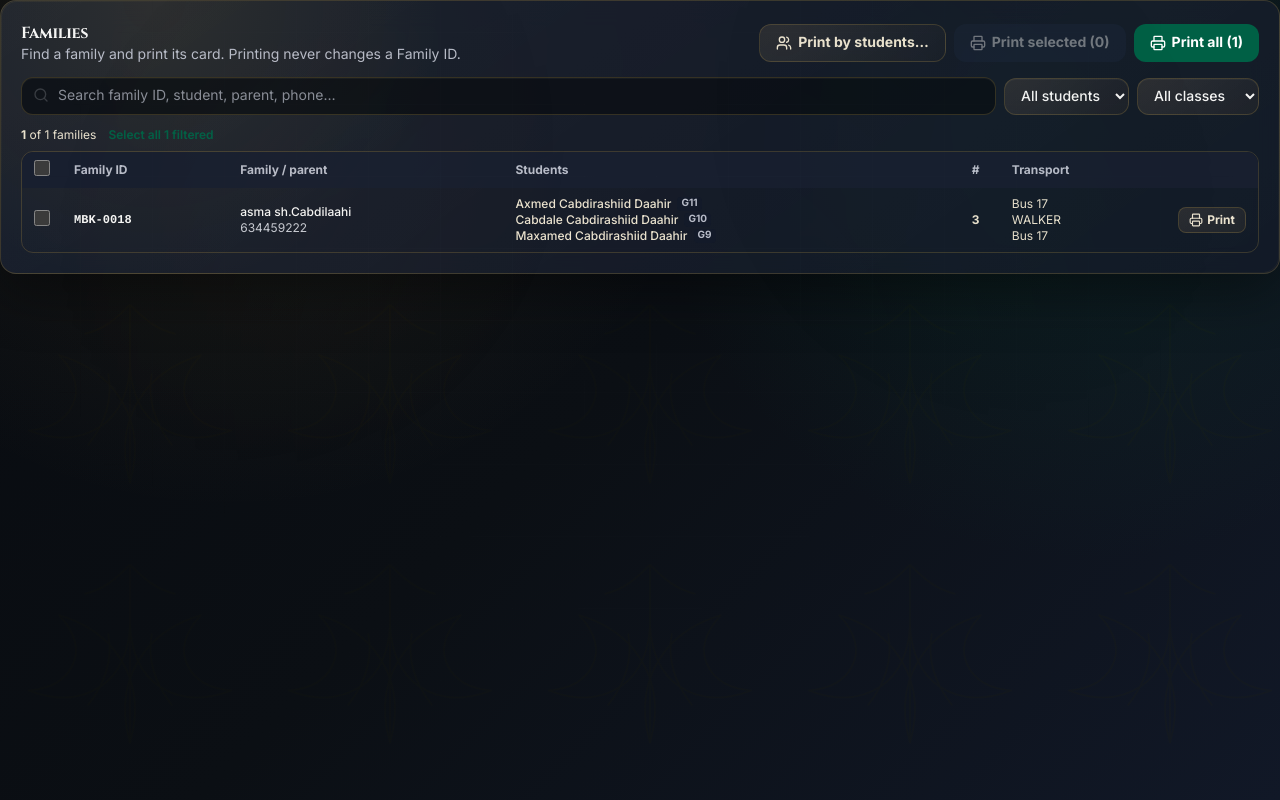
Test case: choosing Bus 17 › shows the two riders and hides the walker
This screenshot has width=1280, height=800.
Select "Bus 17" in the 1st dropdown: (1066, 96) [1004,78,1129,114]
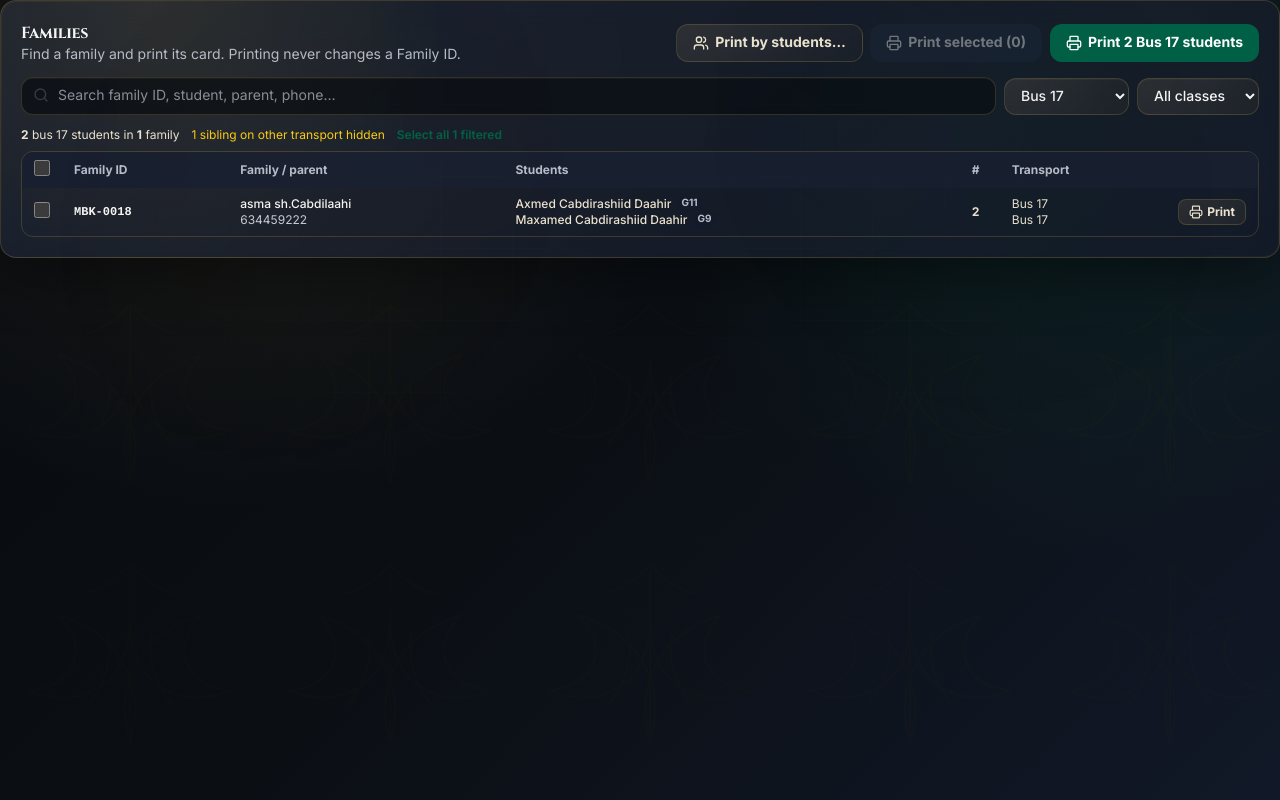
Expected: the text "Axmed Cabdirashiid Daahir" is shown, [516,196,671,212]
Result: the text "Cabdale Cabdirashiid Daahir" is gone
